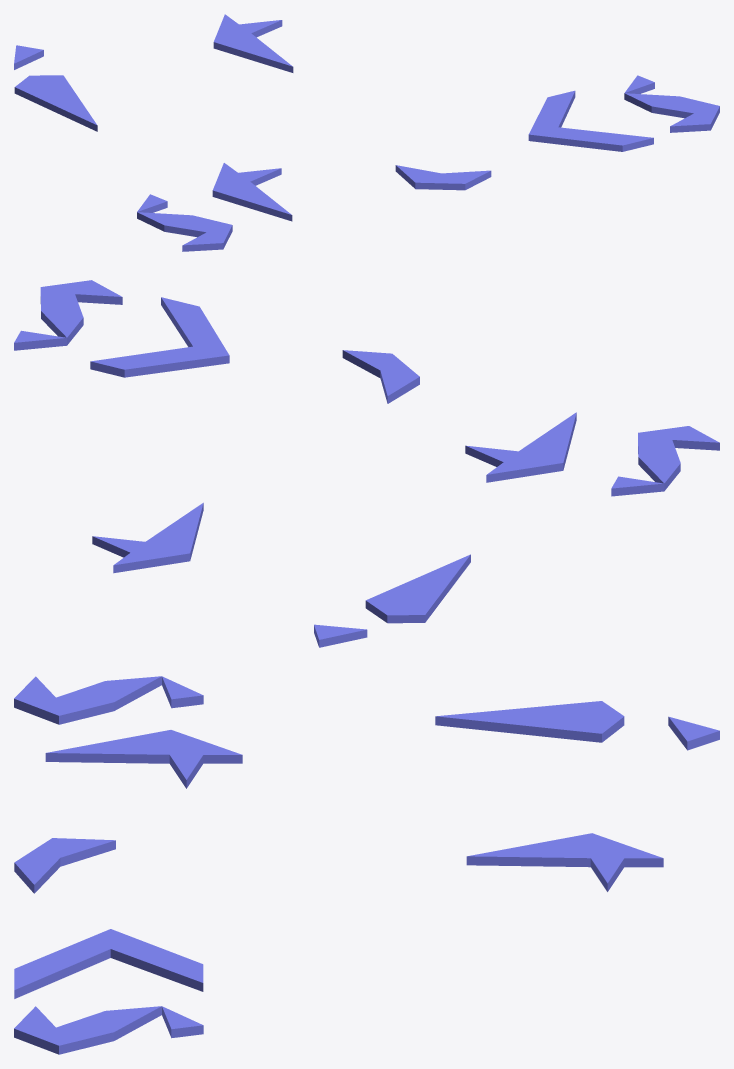
The model's file is coolasstextgobrrr.fbx.
The picture shows the model from 3 angles, top to bottom: view 1: azimuth 30°, elevation 25°; view 2: azimuth 150°, elevation 25°; view 3: azimuth 270°, elevation 25°; orthographic projection. The views are drawn at different scales.
Parts seen in each view (by area): view 1: Text; view 2: Text; view 3: Text.
Boxes of the visible parts, x1,y1,x2,y2 form: Text: [14, 14, 719, 251]; Text: [14, 280, 719, 647]; Text: [14, 676, 719, 1054].
Bounding box in the file's own units: 208 × 2.35 × 168.
